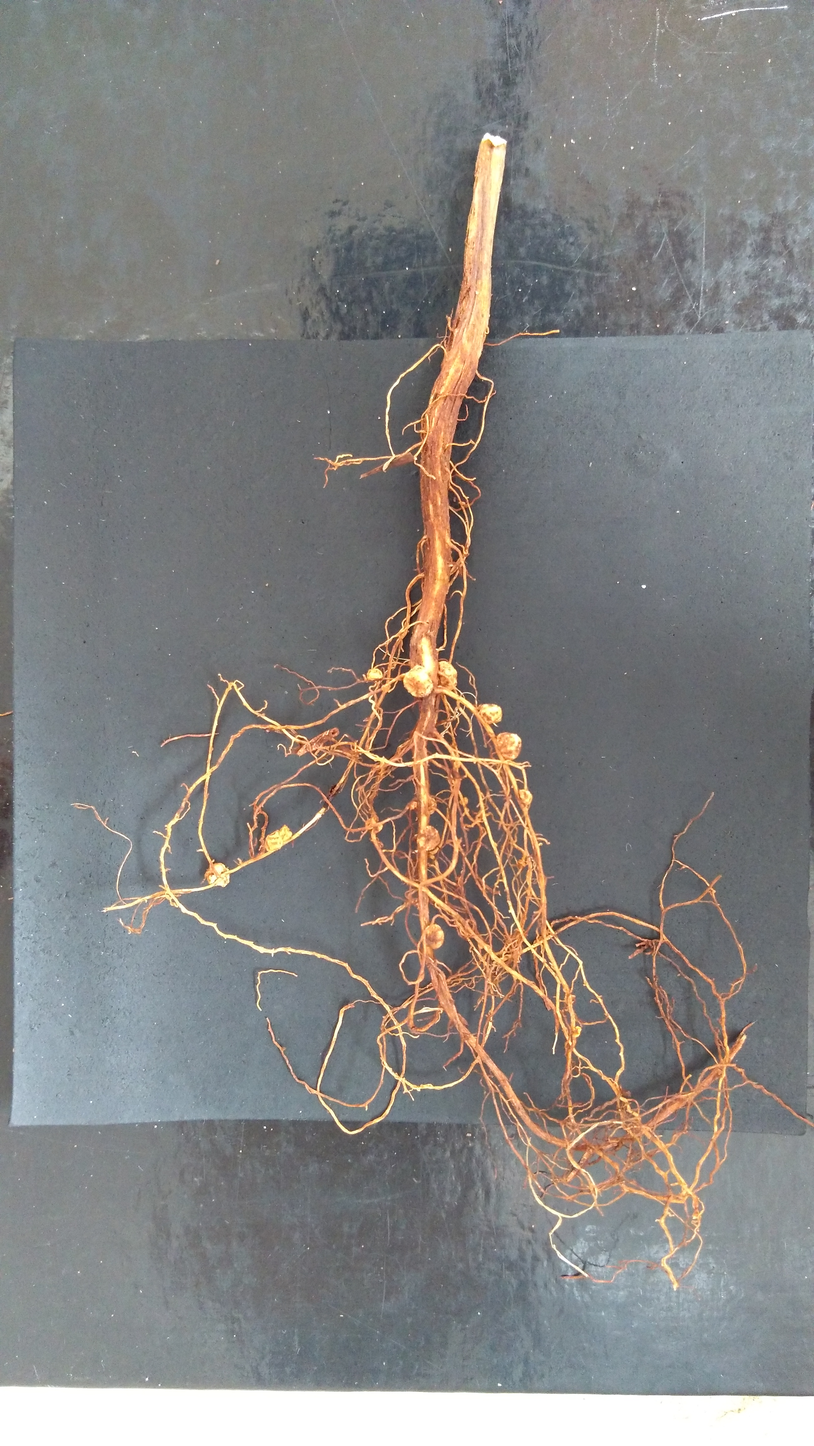nodule: (402, 664, 434, 699), (496, 730, 523, 763), (264, 823, 293, 852), (203, 862, 231, 889), (437, 659, 458, 692), (416, 825, 441, 852), (421, 923, 445, 951), (478, 702, 503, 728), (518, 789, 533, 806), (427, 795, 438, 816), (365, 668, 383, 680), (572, 1025, 582, 1040), (517, 855, 527, 870), (365, 817, 375, 830), (380, 683, 391, 694), (408, 800, 418, 812), (458, 796, 469, 806), (375, 823, 384, 834), (484, 943, 492, 953), (477, 942, 484, 949)
